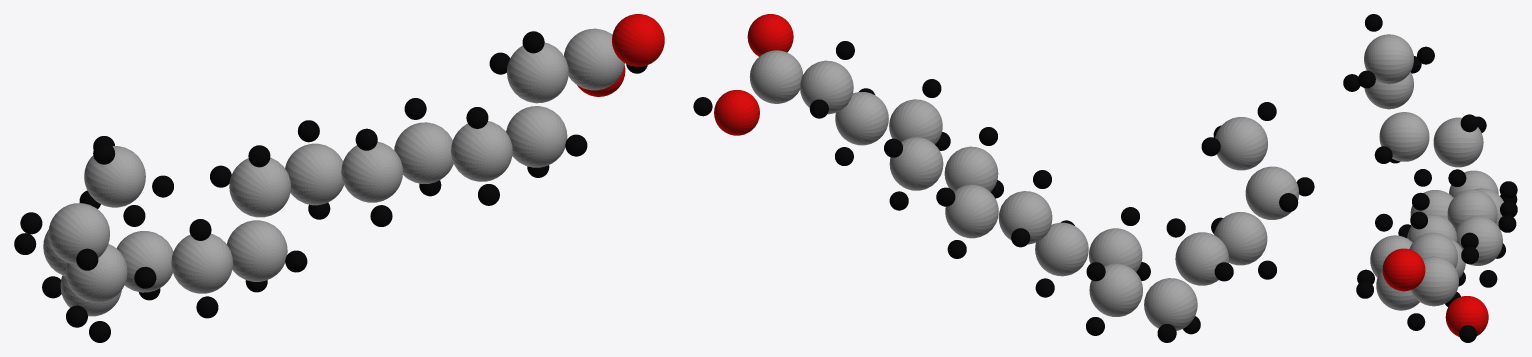
Rendered from Palmitic Acid.glb.
The picture shows the model from 3 angles, left to right: view 1: azimuth 30°, elevation 25°; view 2: azimuth 150°, elevation 25°; view 3: azimuth 270°, elevation 25°; orthographic projection. The views are drawn at different scales.
Visible parts, largest first — view 1: world; view 2: world; view 3: world.
Part boxes in pixels (bbox=[...]): world: bbox=[14, 14, 664, 342]; world: bbox=[693, 14, 1314, 342]; world: bbox=[1343, 14, 1517, 342].
Size of the model in its own units: 17.24 by 6.05 by 4.89.
